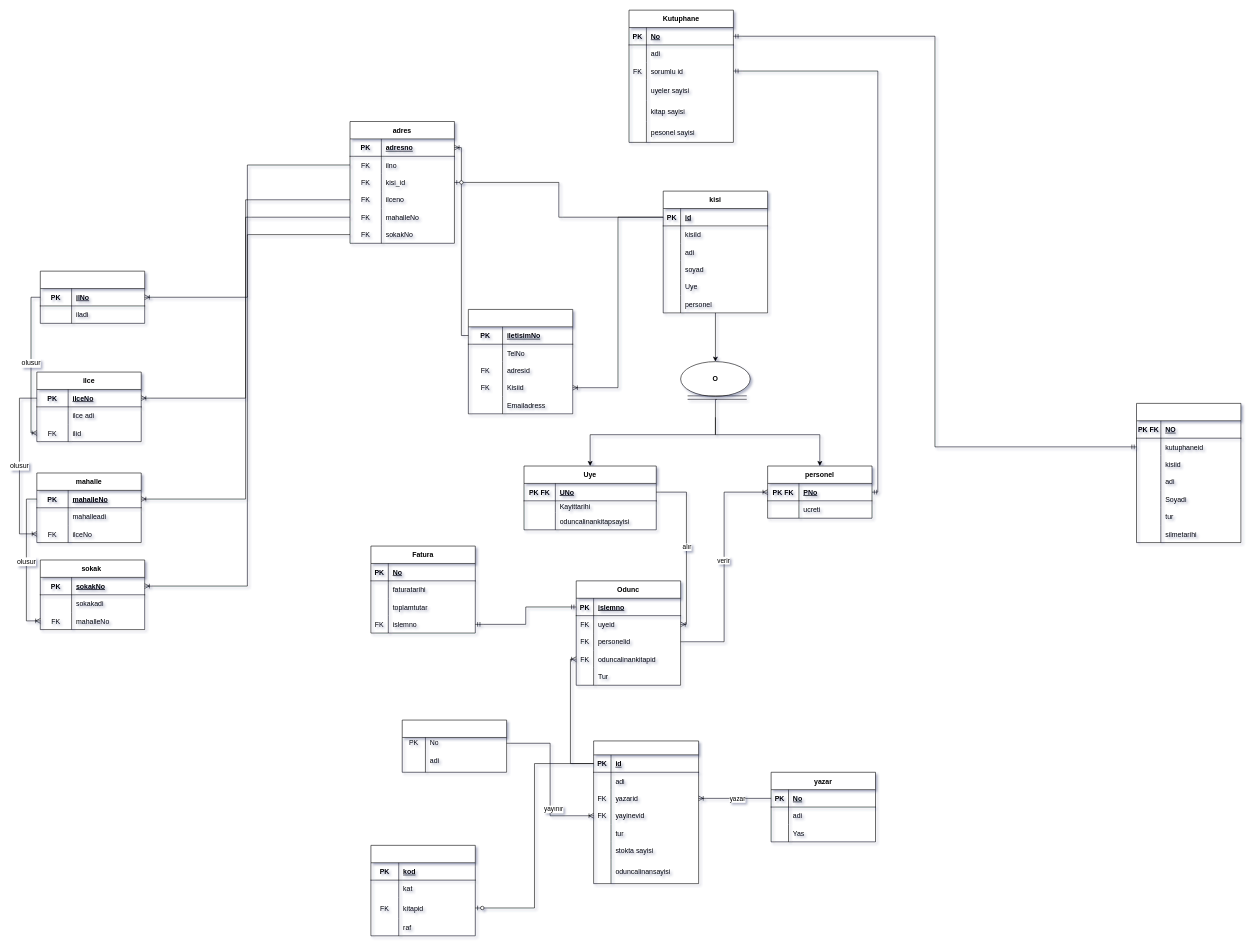
Image size: 1255x949. Some labels were removed from this diagram. The shapes that lost their labels are listed below. From the top down, each one's box as (x1, y1, x2, y2) in pixels, then its label:
(40, 271, 145, 323): il
(468, 309, 573, 414): iletisimbilgiler
(1136, 403, 1241, 543): Silinenkisiler
(402, 719, 507, 772): yayinevi
(593, 740, 699, 884): kitap
(370, 845, 475, 936): kitapadres
